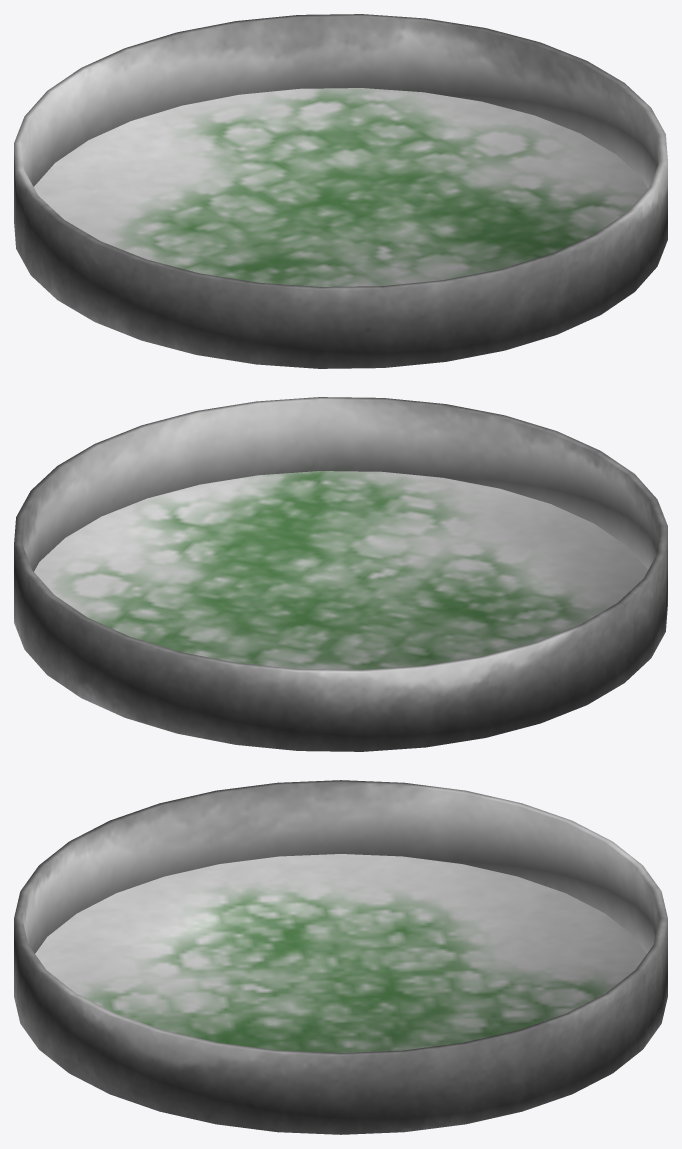
The model's file is Placa de petri.fbx.
The picture shows the model from 3 angles, top to bottom: view 1: azimuth 30°, elevation 25°; view 2: azimuth 150°, elevation 25°; view 3: azimuth 270°, elevation 25°; orthographic projection.
Parts seen in each view (by area): view 1: Cylinder.002; view 2: Cylinder.002; view 3: Cylinder.002.
Part boxes in pixels (x1=…): Cylinder.002: x1=14, y1=14, x2=667, y2=368; Cylinder.002: x1=14, y1=397, x2=667, y2=751; Cylinder.002: x1=14, y1=780, x2=667, y2=1134.
Bounding box in the file's own units: 45.97 × 6.07 × 45.97.
